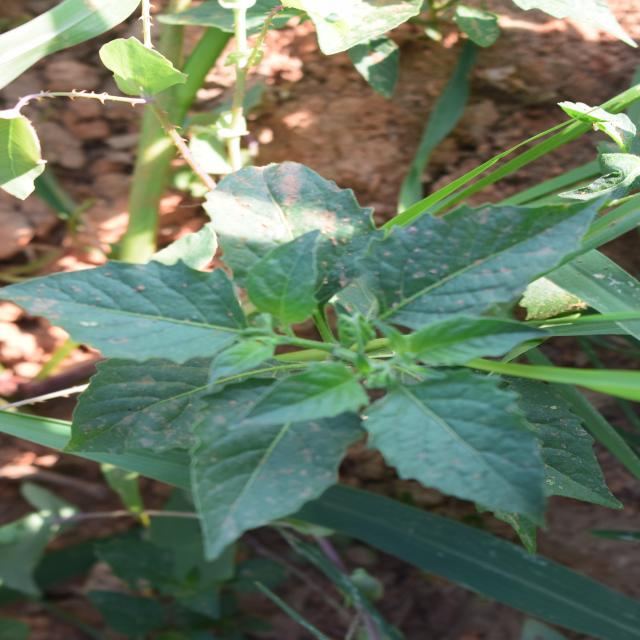Black_nightshade: (109, 21, 457, 615)
